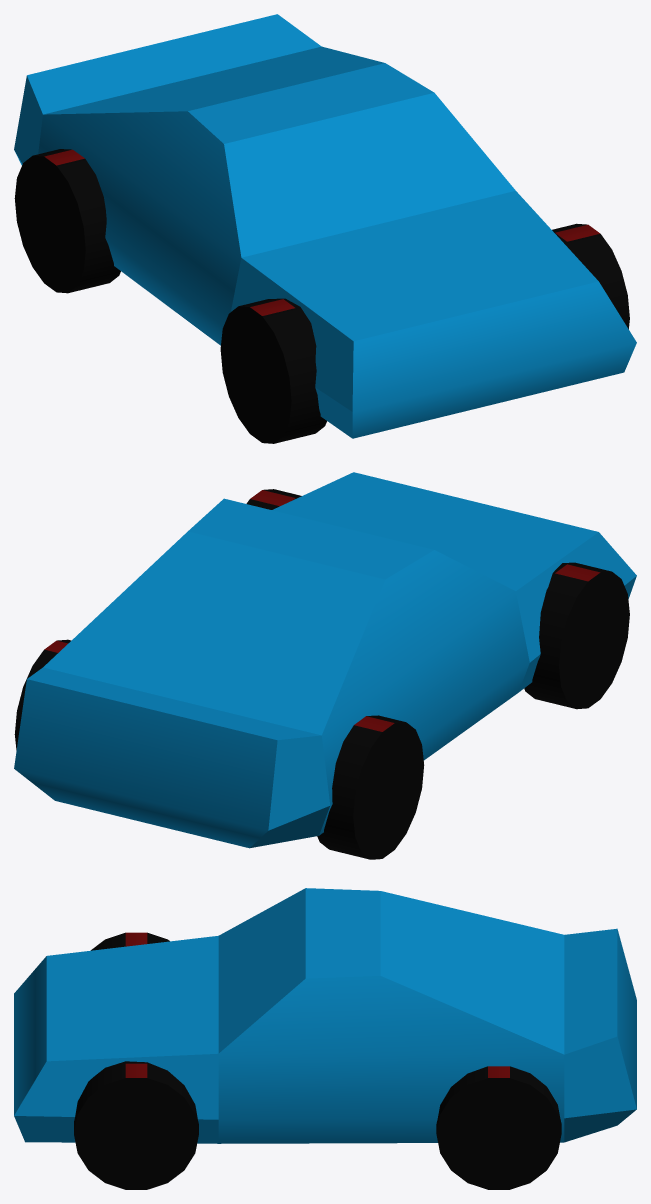
The model's file is Car.FBX.
3 renders of one model, top to bottom at view 1: azimuth 30°, elevation 25°; view 2: azimuth 150°, elevation 25°; view 3: azimuth 270°, elevation 25°, orthographic. The views are drawn at different scales.
Visible parts, largest first — view 1: Body, FRwheel, BRwheel, FLwheel; view 2: Body, FRwheel, BRwheel, BLwheel, FLwheel; view 3: Body, FLwheel, BLwheel, FRwheel.
Part boxes in pixels (x1,y1,x2,y2): Body: (14, 14, 636, 438); FRwheel: (220, 298, 326, 443); BRwheel: (14, 149, 120, 293); FLwheel: (552, 223, 629, 329); Body: (14, 472, 636, 848); FRwheel: (524, 562, 629, 709); BRwheel: (317, 715, 424, 859); BLwheel: (14, 639, 71, 750); FLwheel: (246, 489, 301, 509); Body: (14, 888, 636, 1143); FLwheel: (74, 1061, 198, 1189); BLwheel: (436, 1066, 561, 1189); FRwheel: (91, 932, 169, 950).
Bounding box in the file's own units: 12.76 × 7.52 × 23.09.
